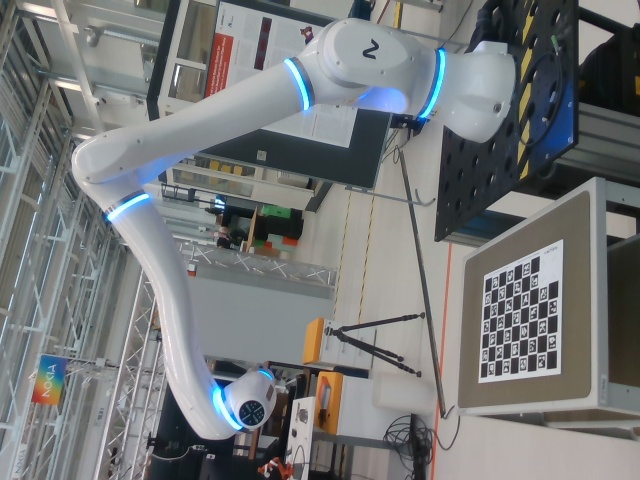Robot arm: (72, 18, 516, 440)
